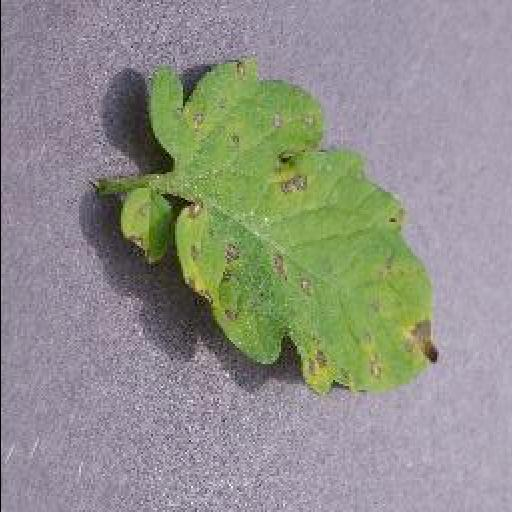disease_tomato: (146, 55, 438, 396)
